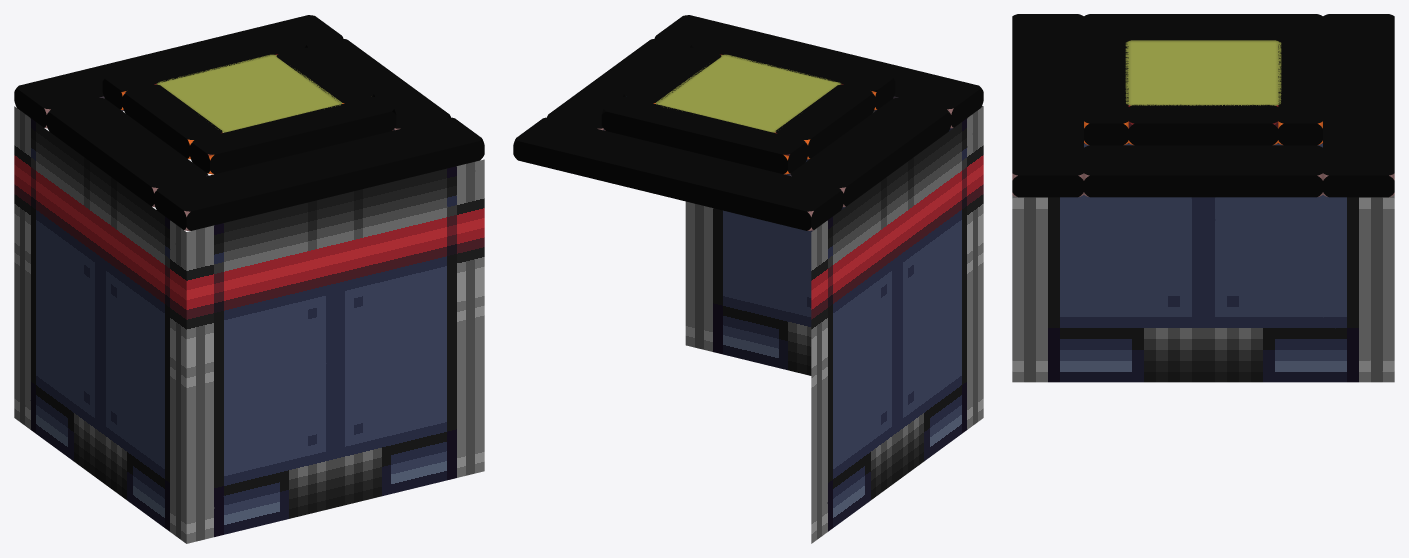
The picture shows the model from 3 angles, left to right: view 1: azimuth 30°, elevation 25°; view 2: azimuth 150°, elevation 25°; view 3: azimuth 270°, elevation 25°; orthographic projection. The views are drawn at different scales.
Parts seen in each view (by area): view 1: S, Roof, W; view 2: Roof, W, S; view 3: W, Roof.
Boxes of the visible parts, box(x1,y1,x2,y2) form: S: box(186, 159, 484, 543); Roof: box(14, 15, 484, 230); W: box(14, 106, 186, 543); Roof: box(513, 15, 983, 230); W: box(811, 106, 983, 543); S: box(685, 106, 982, 375); W: box(1012, 105, 1394, 382); Roof: box(1012, 14, 1394, 197).
Bounding box in the file's own units: 2 × 2.25 × 2.
2 materials, 2 textured.
